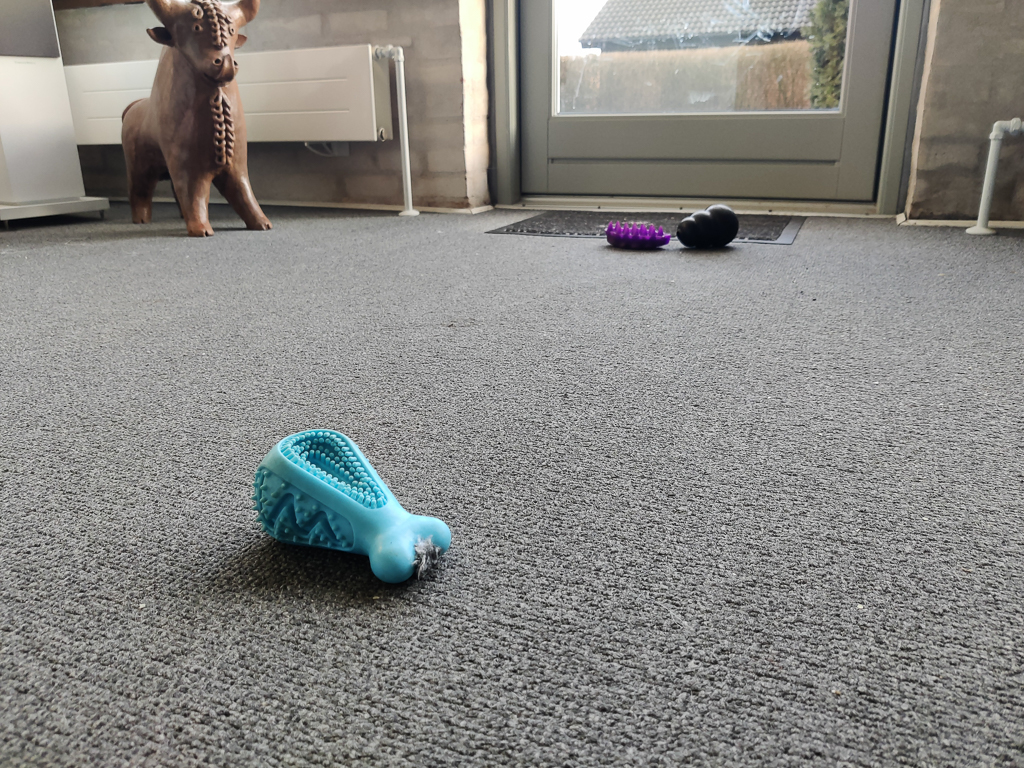Cattle: (109, 0, 282, 242)
